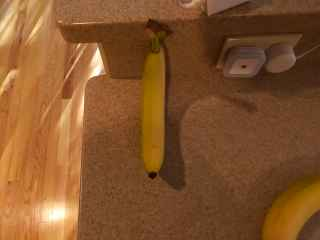banana: (133, 18, 175, 181)
